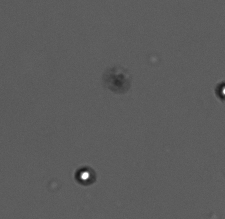Dead Cell: (106, 67, 130, 92)
Living Cell: (74, 165, 98, 186)
